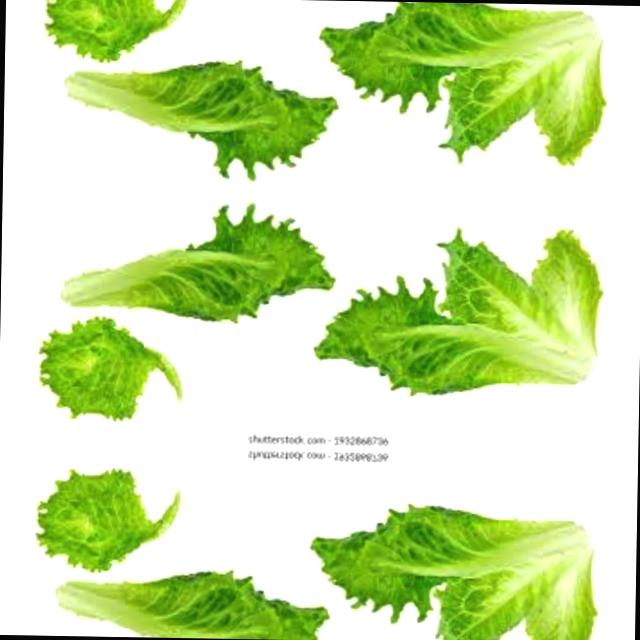healthy: (342, 261, 604, 394), (338, 506, 599, 639), (347, 0, 608, 128), (76, 65, 303, 154), (74, 225, 300, 314), (68, 576, 294, 640), (34, 317, 164, 425), (32, 461, 161, 569), (40, 0, 168, 59)
